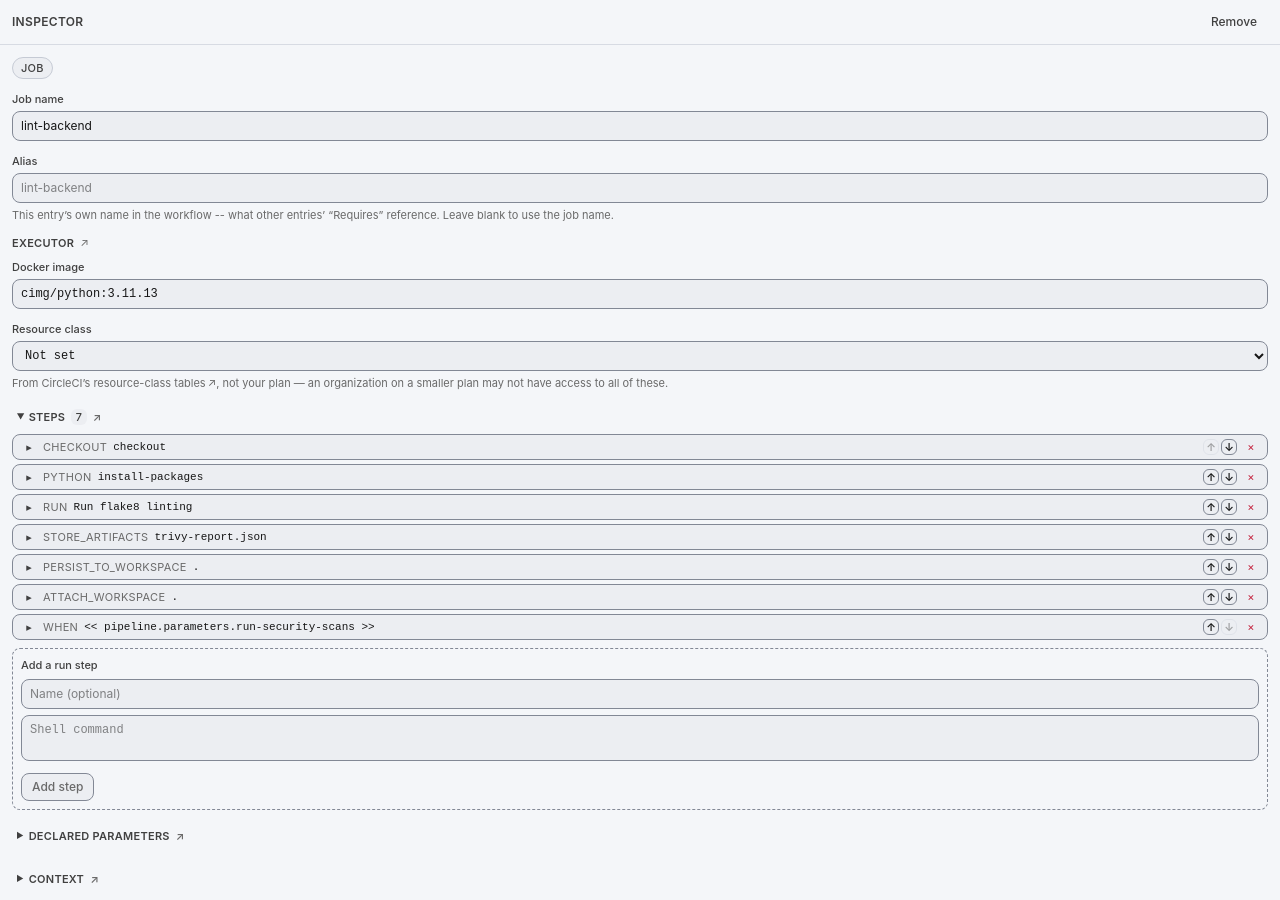
Test: Inspector › step kinds (issue #28) › expanding a when group reveals its nested steps instead of hiding them in a blob
Click the button "▸" next to "when" at {"x": 29, "y": 627}, box top-left (21, 619), bottom-right (37, 635)
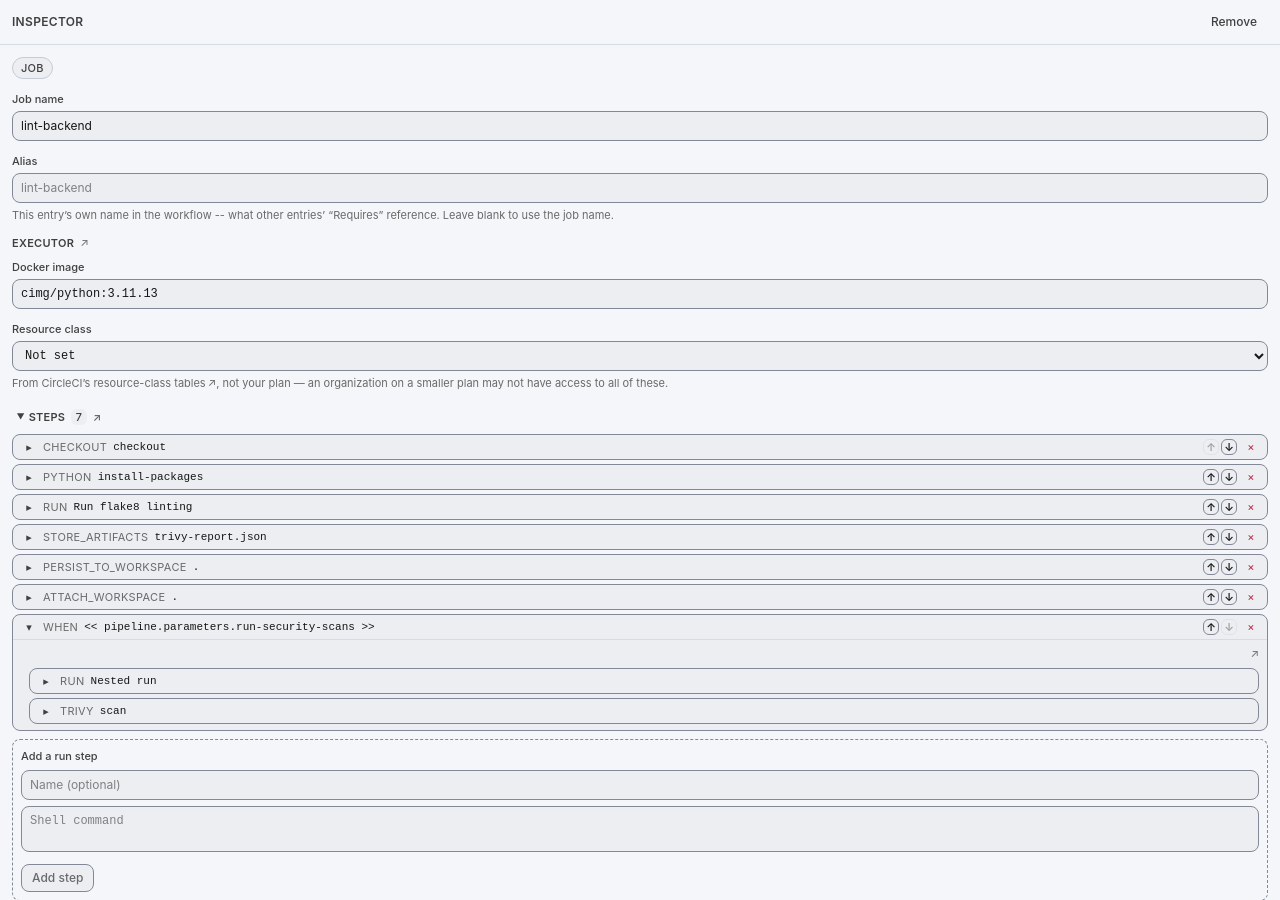
Now the text titled "Nested run" is shown, box top-left (90, 675), bottom-right (156, 687)
Now the text titled "scan" is shown, box top-left (100, 705), bottom-right (126, 717)
Now the text "trivy" is shown, box top-left (60, 703), bottom-right (94, 719)
